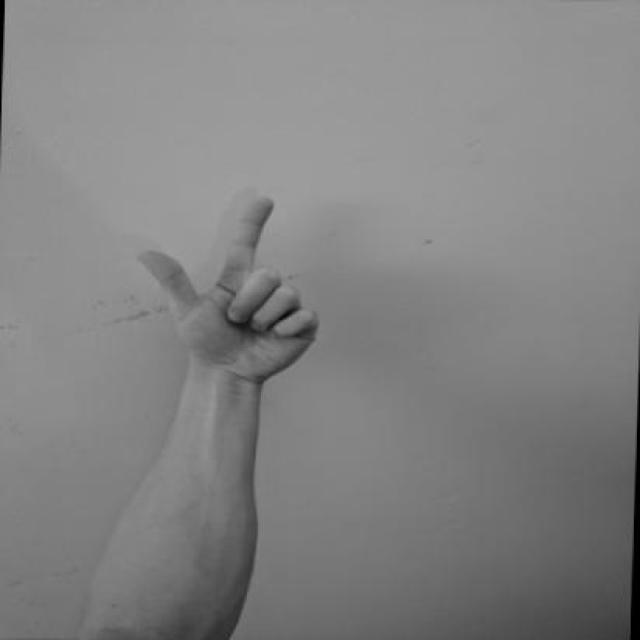L: (127, 190, 329, 385)
